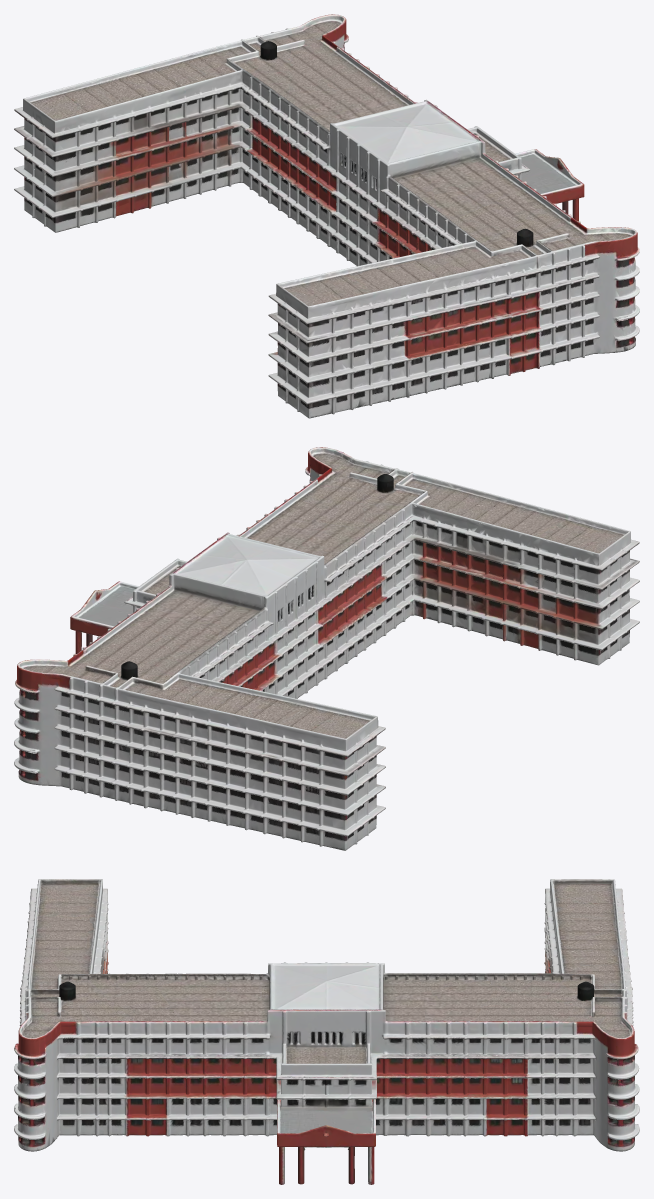
File: building_1788181392194.glb
The picture shows the model from 3 angles, top to bottom: view 1: azimuth 30°, elevation 25°; view 2: azimuth 150°, elevation 25°; view 3: azimuth 270°, elevation 25°; orthographic projection.
Visible parts, largest first — view 1: tripo_node_698e49de-67c6-48a4-bfad-07061163e528; view 2: tripo_node_698e49de-67c6-48a4-bfad-07061163e528; view 3: tripo_node_698e49de-67c6-48a4-bfad-07061163e528.
Part boxes in pixels (bbox=[...]): tripo_node_698e49de-67c6-48a4-bfad-07061163e528: bbox=[14, 14, 639, 418]; tripo_node_698e49de-67c6-48a4-bfad-07061163e528: bbox=[14, 447, 639, 850]; tripo_node_698e49de-67c6-48a4-bfad-07061163e528: bbox=[14, 879, 639, 1184].
Size of the model in its own units: 0.7386 by 0.2259 by 0.9792.
1 material, 1 textured.
